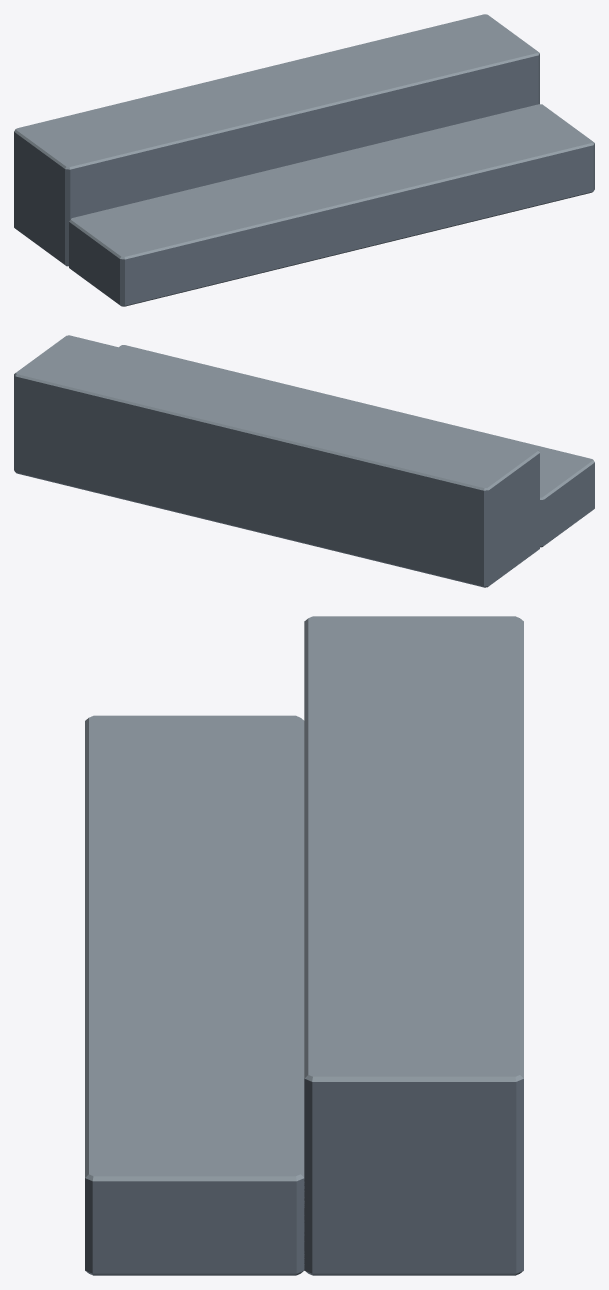
Rendered from stair-short.glb.
3 renders of one model, top to bottom at view 1: azimuth 30°, elevation 25°; view 2: azimuth 150°, elevation 25°; view 3: azimuth 270°, elevation 25°, orthographic. The views are drawn at different scales.
Visible parts, largest first — view 1: stair-short__body; view 2: stair-short__body; view 3: stair-short__body.
Part boxes in pixels (left/top/right/bottom): stair-short__body: left=14, top=14, right=594, bottom=306; stair-short__body: left=14, top=335, right=594, bottom=587; stair-short__body: left=85, top=616, right=523, bottom=1275.
Size of the model in its own units: 2 by 0.4 by 0.8.
